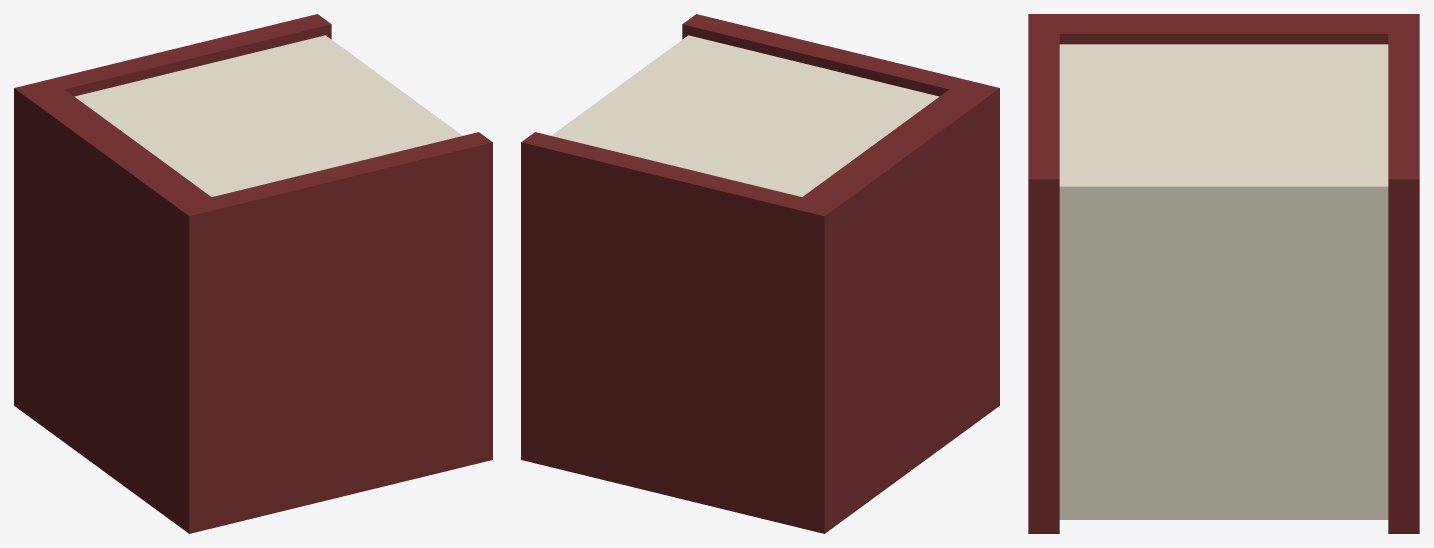
File: book-0.glb
3 views of the same model, side by side, from view 1: azimuth 30°, elevation 25°; view 2: azimuth 150°, elevation 25°; view 3: azimuth 270°, elevation 25° (orthographic). The views are drawn at different scales.
Bounding box in the file's own units: 1 × 1 × 1.
